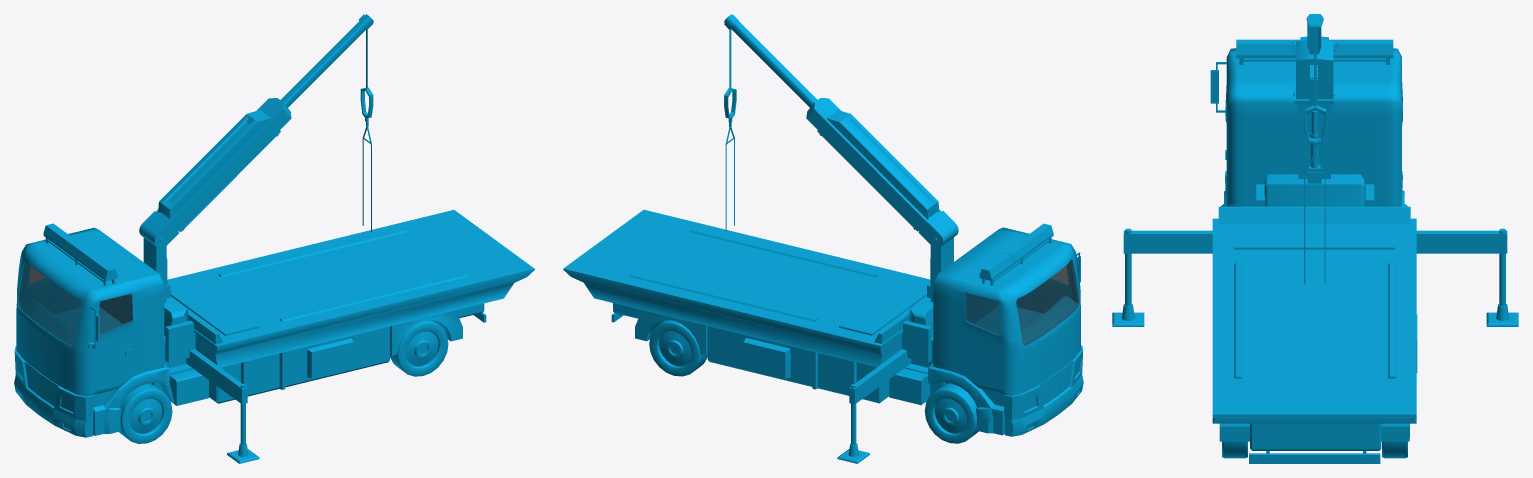
File: Truck_01A_Lod0.fbx
3 views of the same model, side by side, from view 1: azimuth 30°, elevation 25°; view 2: azimuth 150°, elevation 25°; view 3: azimuth 270°, elevation 25° (orthographic). The views are drawn at different scales.
Parts seen in each view (by area): view 1: Truck_01A_Lod0; view 2: Truck_01A_Lod0; view 3: Truck_01A_Lod0.
Boxes of the visible parts, bbox=[...] form: Truck_01A_Lod0: bbox=[14, 14, 534, 463]; Truck_01A_Lod0: bbox=[563, 14, 1083, 463]; Truck_01A_Lod0: bbox=[1112, 14, 1518, 463].
Bounding box in the file's own units: 1069 × 758 × 651.
